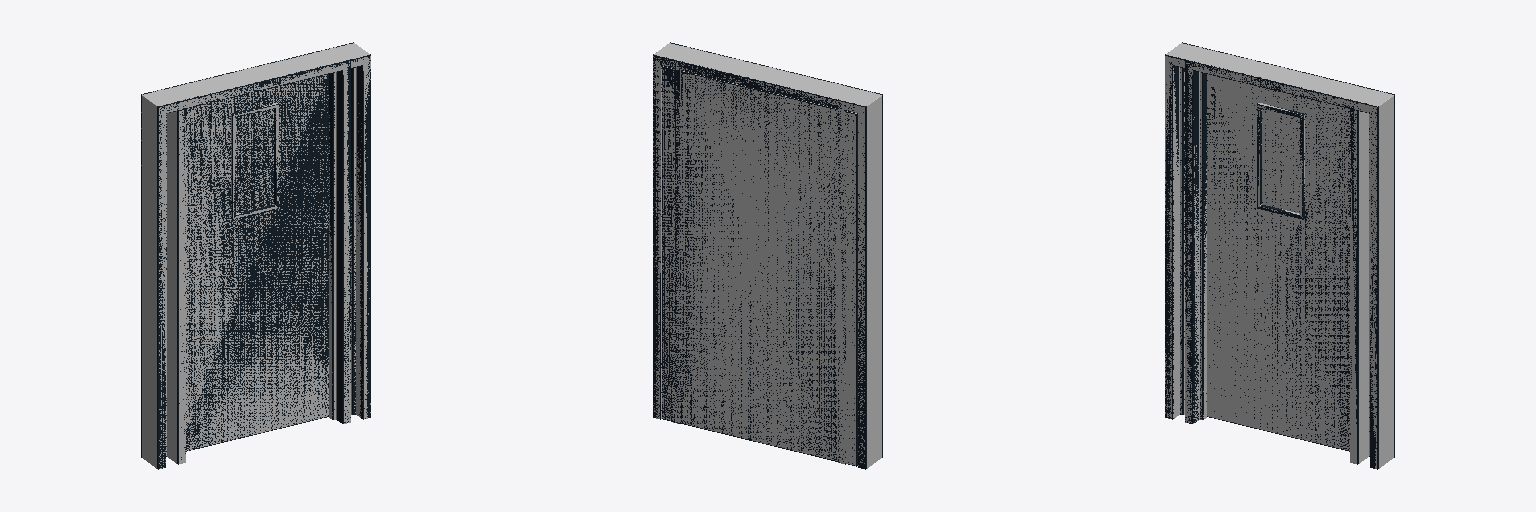
The model's file is sgc_door_single_bake.obj.
3 renders of one model, left to right at view 1: azimuth 30°, elevation 25°; view 2: azimuth 150°, elevation 25°; view 3: azimuth 330°, elevation 25°, orthographic.
Parts seen in each view (by area): view 1: Door_Wide_Low, Door_High, Door_Frame_Wide_High, Door_Frame_High, Door_Frame_Wide_Low, Door_Frame_Low, Door_Wide_High, Door_Low, Door_Window_Frame_High, Door_Window_Frame_Low; view 2: Door_Wide_High, Door_High, Door_Frame_Wide_High, Door_Wide_Low, Door_Low, Door_Frame_Wide_Low, Door_Frame_High, Door_Frame_Low; view 3: Door_High, Door_Frame_Wide_High, Door_Frame_High, Door_Wide_High, Door_Frame_Low, Door_Low, Door_Frame_Wide_Low, Door_Window_Frame_Low.
Part boxes in pixels (left/top/right/bottom): Door_Wide_Low: left=166, top=74, right=328, bottom=456; Door_High: left=186, top=75, right=328, bottom=449; Door_Frame_Wide_High: left=141, top=43, right=370, bottom=468; Door_Frame_High: left=162, top=48, right=350, bottom=463; Door_Frame_Wide_Low: left=141, top=42, right=370, bottom=469; Door_Frame_Low: left=161, top=49, right=350, bottom=464; Door_Wide_High: left=166, top=75, right=328, bottom=455; Door_Low: left=186, top=77, right=328, bottom=451; Door_Window_Frame_High: left=231, top=103, right=278, bottom=218; Door_Window_Frame_Low: left=231, top=103, right=278, bottom=219; Door_Wide_High: left=662, top=66, right=856, bottom=465; Door_High: left=682, top=71, right=835, bottom=459; Door_Frame_Wide_High: left=653, top=43, right=881, bottom=468; Door_Wide_Low: left=662, top=66, right=857, bottom=466; Door_Low: left=682, top=71, right=836, bottom=461; Door_Frame_Wide_Low: left=653, top=42, right=882, bottom=469; Door_Frame_High: left=673, top=48, right=860, bottom=463; Door_Frame_Low: left=673, top=47, right=862, bottom=464; Door_High: left=1207, top=74, right=1349, bottom=449; Door_Frame_Wide_High: left=1165, top=43, right=1393, bottom=468; Door_Frame_High: left=1185, top=49, right=1372, bottom=463; Door_Wide_High: left=1207, top=85, right=1369, bottom=455; Door_Frame_Low: left=1185, top=47, right=1374, bottom=464; Door_Low: left=1207, top=77, right=1349, bottom=451; Door_Frame_Wide_Low: left=1165, top=42, right=1394, bottom=469; Door_Window_Frame_Low: left=1257, top=103, right=1304, bottom=219.
Bounding box in the file's own units: 19.51 × 31.7 × 2.74.